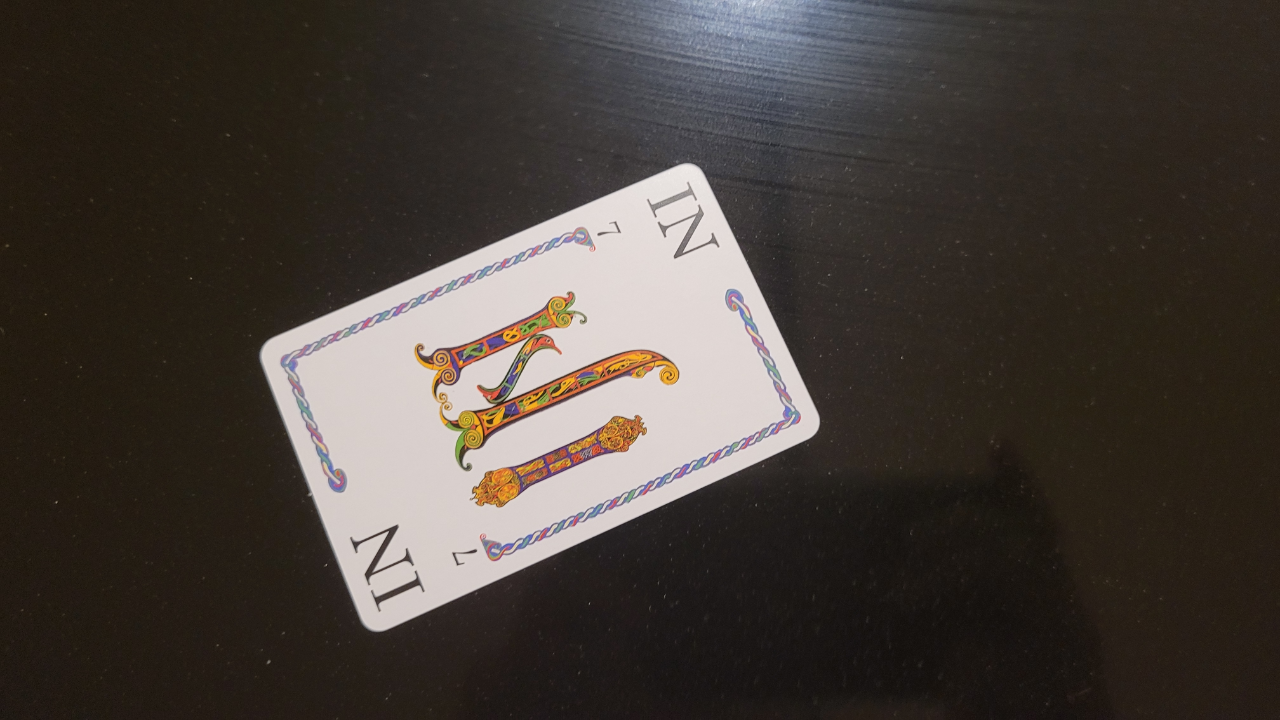quiddler_card: (229, 155, 848, 653)
